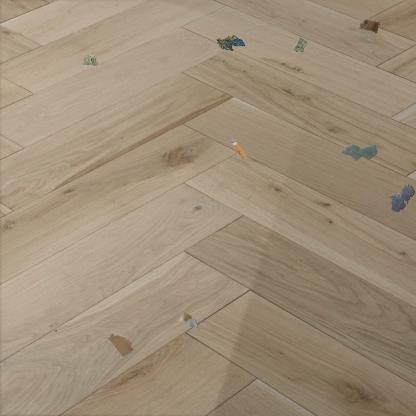dirty: (106, 329, 136, 358), (216, 33, 247, 53), (178, 310, 200, 334), (290, 34, 312, 58), (228, 138, 249, 160), (80, 52, 100, 70), (358, 18, 379, 33)
liquid: (389, 183, 415, 213), (342, 143, 379, 162)
